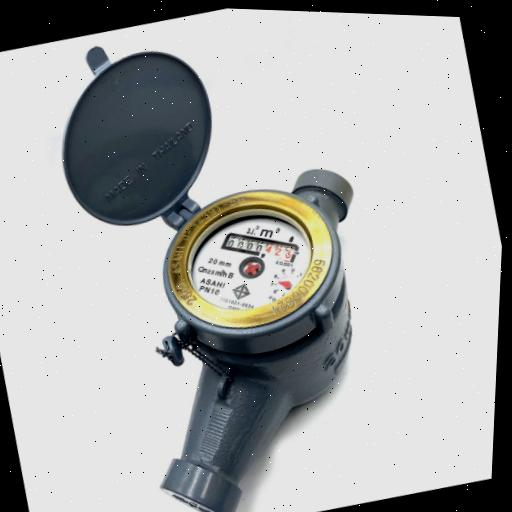0: (223, 231, 244, 253), (252, 237, 271, 257), (233, 234, 252, 253), (243, 236, 261, 256)
2: (271, 240, 290, 260)
4: (261, 240, 281, 259)
6: (278, 243, 299, 265)
border_water_meter_number: (215, 214, 304, 279)
